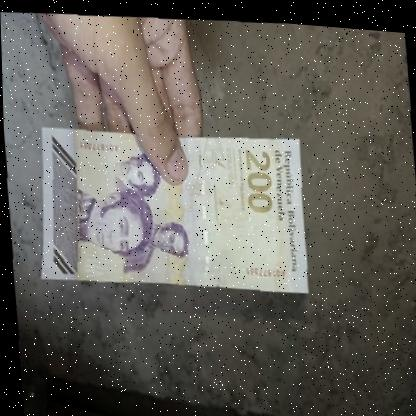two_hundred-front-vef: (27, 111, 311, 303)
